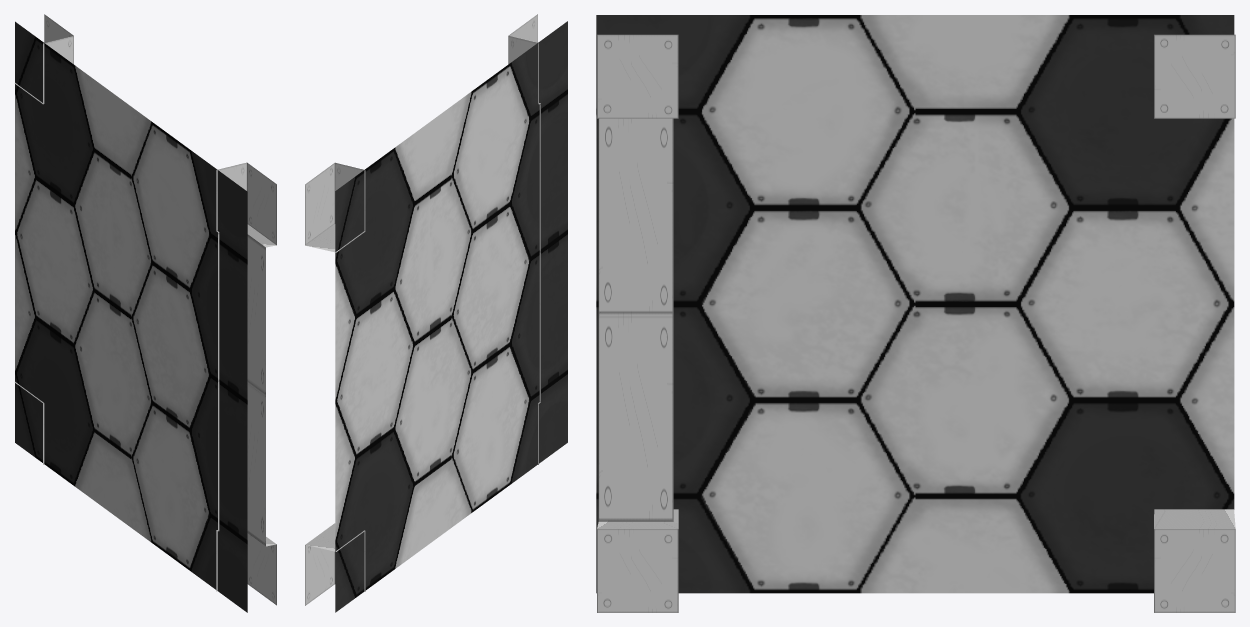
The model's file is Wall_LeftCorners.fbx.
3 renders of one model, left to right at view 1: azimuth 30°, elevation 25°; view 2: azimuth 150°, elevation 25°; view 3: azimuth 270°, elevation 25°, orthographic. The views are drawn at different scales.
Visible parts, largest first — view 1: pPlane123; view 2: pPlane123; view 3: pPlane123.
Boxes of the visible parts, bbox=[...] form: pPlane123: bbox=[14, 14, 276, 612]; pPlane123: bbox=[305, 14, 567, 612]; pPlane123: bbox=[596, 15, 1235, 612].
Size of the model in its own units: 0.1534 by 2 by 2.
